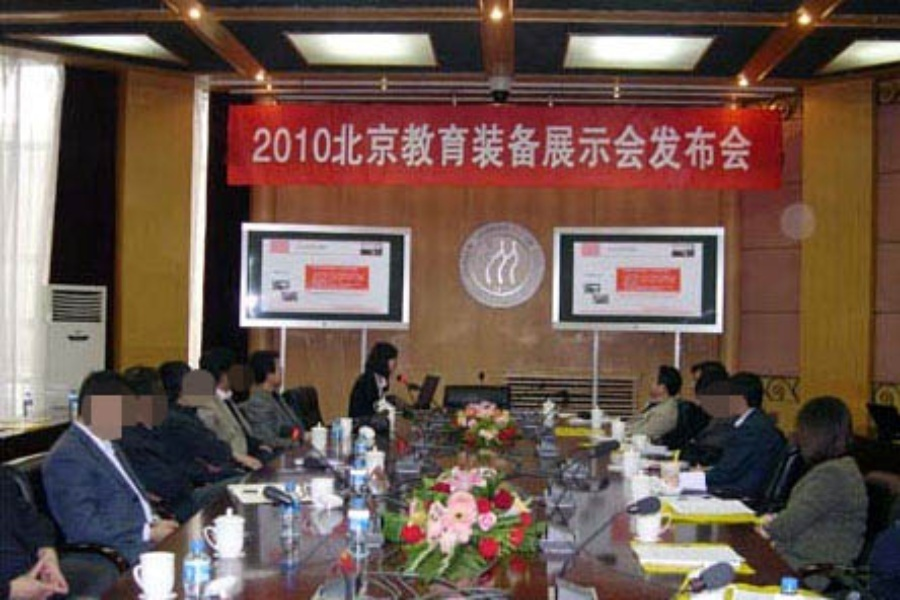text: (737, 124, 753, 173), (257, 124, 272, 173), (273, 124, 288, 173), (289, 124, 304, 173), (305, 124, 320, 173), (321, 124, 336, 173), (337, 124, 352, 173), (353, 124, 368, 173), (369, 124, 384, 173), (385, 124, 400, 173), (401, 124, 416, 173), (417, 124, 432, 173), (433, 124, 448, 173), (449, 124, 464, 173), (465, 124, 480, 173), (481, 124, 496, 173), (497, 124, 512, 173), (513, 124, 528, 173), (529, 124, 544, 173), (545, 124, 560, 173), (561, 124, 576, 173), (577, 124, 592, 173), (593, 124, 608, 173), (609, 124, 624, 173), (625, 124, 640, 173), (641, 124, 656, 173), (657, 124, 672, 173), (673, 124, 688, 173), (689, 124, 704, 173), (705, 124, 720, 173), (721, 124, 736, 173), (250, 124, 256, 173)
